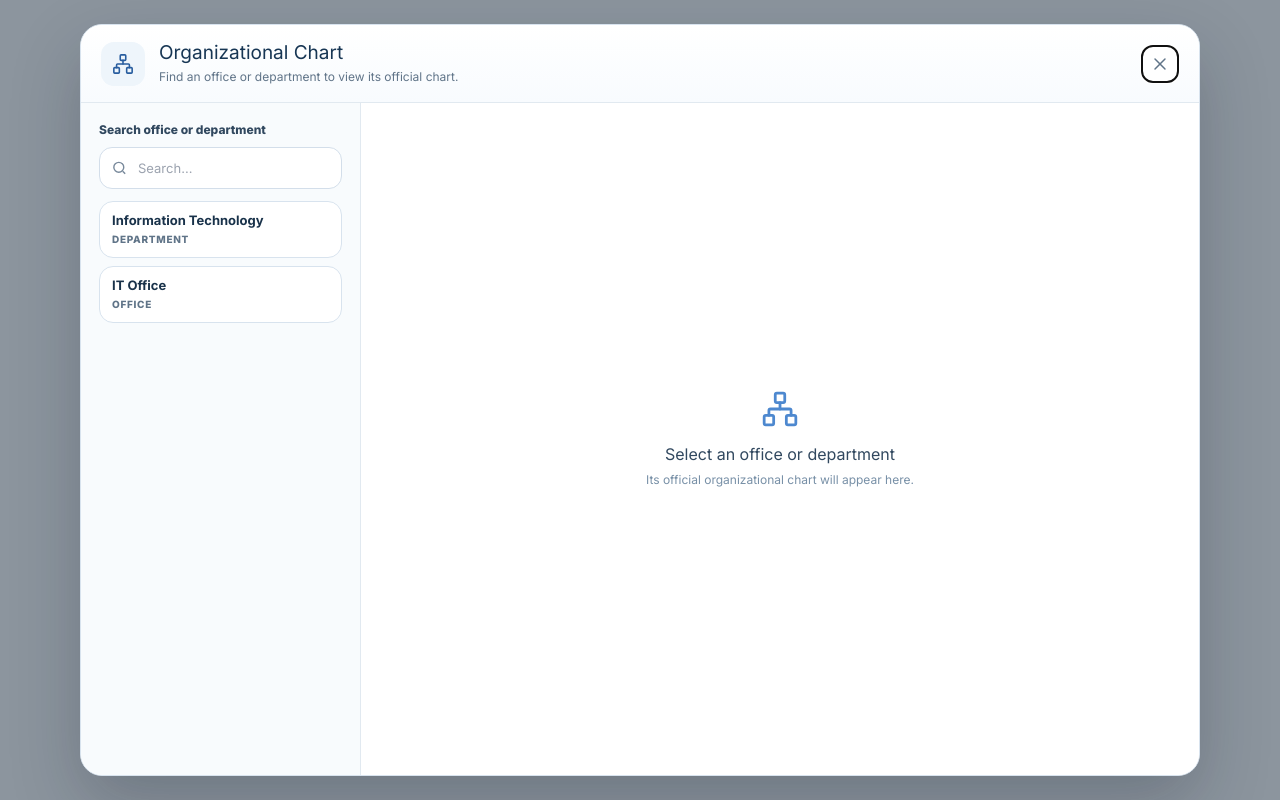
Test: PublicOrgChart › filters offices and departments
Step 1. Type "Information" into the search field labelled "Search office or department" → (220, 168), box [99,147,342,189]
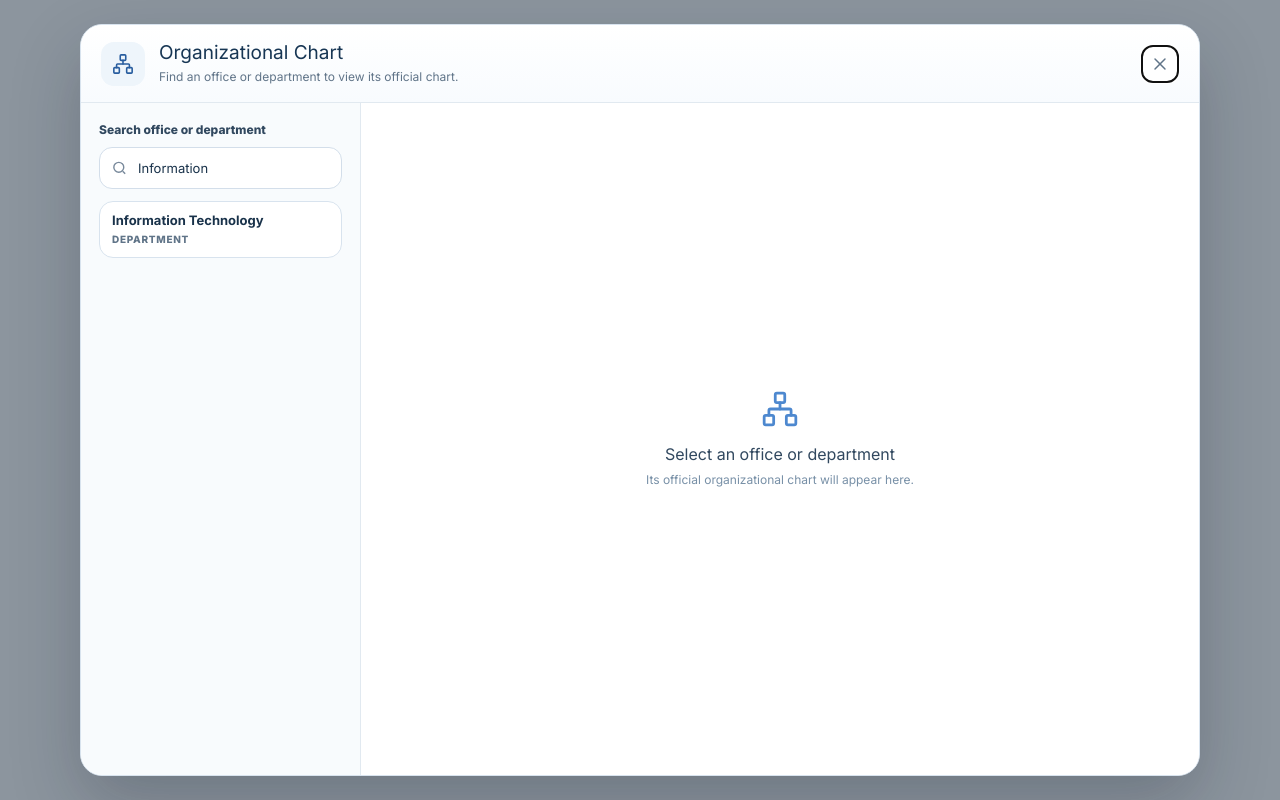
Check: the button "Information Technology Department" is shown, box [99,201,342,258]
Check: the button "IT Office Office" is gone
